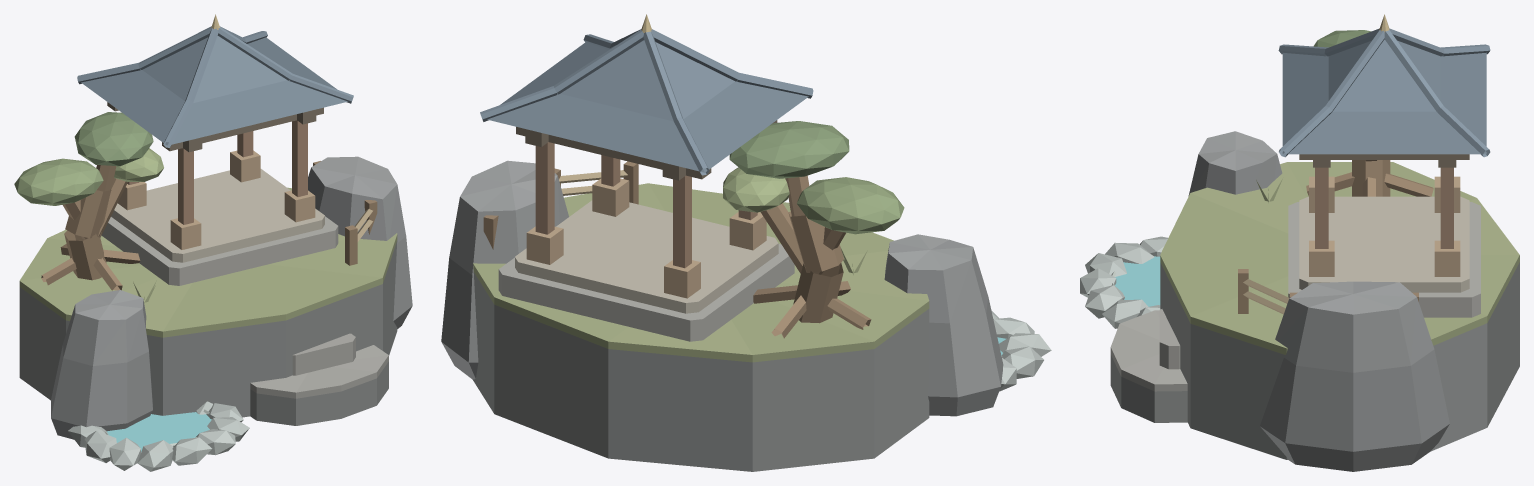
3 renders of one model, left to right at view 1: azimuth 30°, elevation 25°; view 2: azimuth 150°, elevation 25°; view 3: azimuth 270°, elevation 25°, orthographic. The views are drawn at different scales.
Visible parts, largest first — view 1: S20; view 2: S20; view 3: S20.
Part boxes in pixels (x1,y1,x2,y2): S20: (14, 14, 412, 471); S20: (441, 14, 1051, 471); S20: (1080, 14, 1519, 471).
Bounding box in the file's own units: 4.73 × 3.64 × 3.92.
